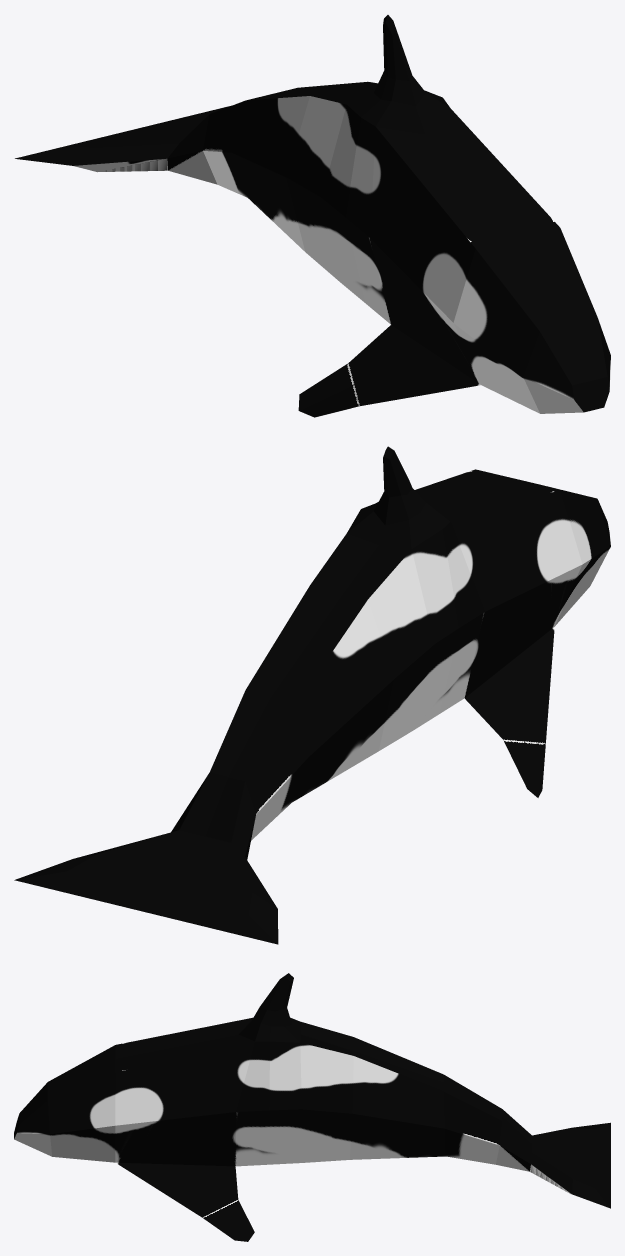
Rendered from OrcaFishy.fbx.
3 renders of one model, top to bottom at view 1: azimuth 30°, elevation 25°; view 2: azimuth 150°, elevation 25°; view 3: azimuth 270°, elevation 25°, orthographic. The views are drawn at different scales.
Visible parts, largest first — view 1: Cube; view 2: Cube; view 3: Cube.
Part boxes in pixels (x1,y1,x2,y2): Cube: [15, 15, 610, 417]; Cube: [14, 446, 610, 944]; Cube: [14, 973, 610, 1241].
Bounding box in the file's own units: 102 × 127 × 298.
Materials: 1 (1 with a texture image).
